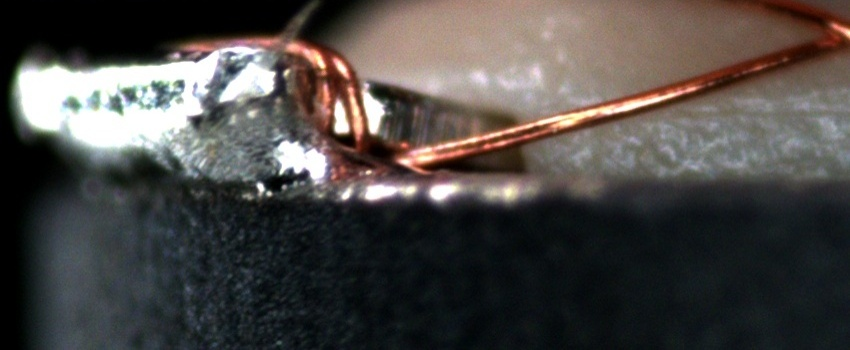CL: (798, 4, 850, 60)
DL: (671, 81, 850, 143)
TE: (170, 34, 378, 161)
